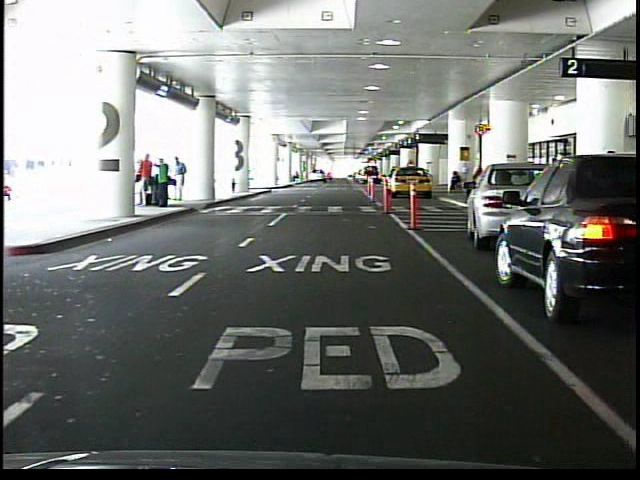person: (140, 152, 154, 207), (156, 157, 170, 208), (174, 156, 188, 203), (447, 171, 462, 195)
